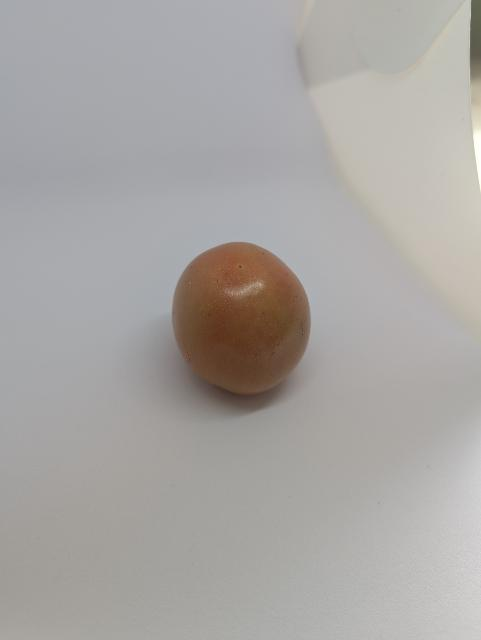turning: (165, 235, 320, 394)
